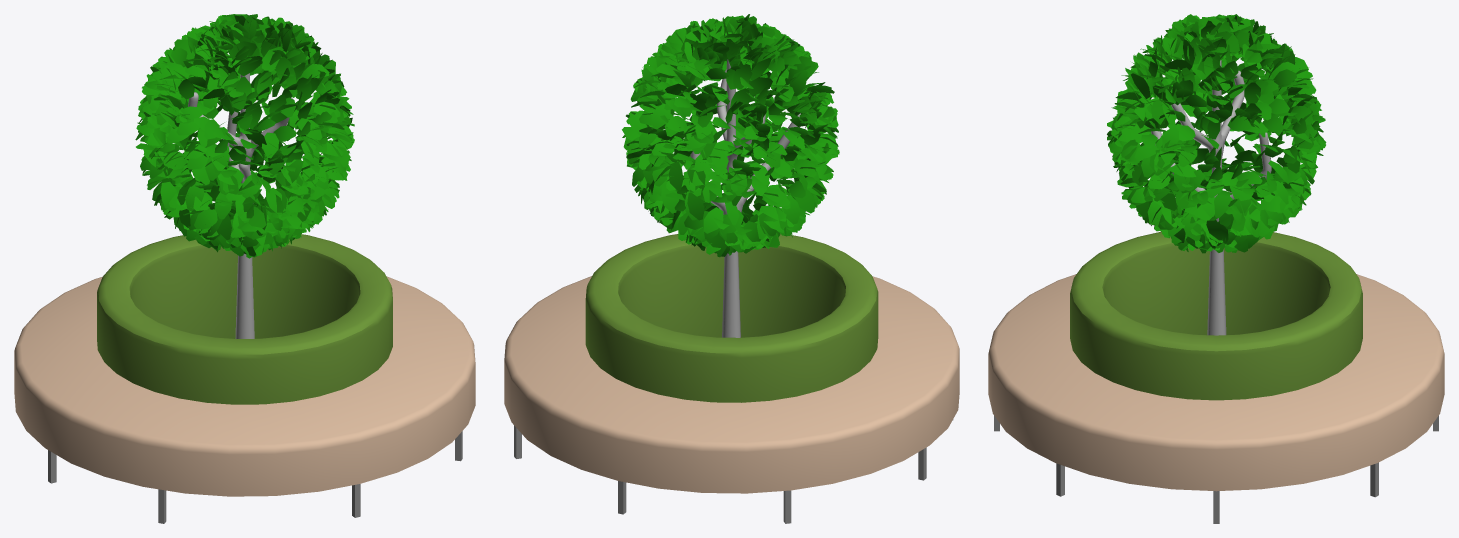
File: treesofa.fbx
3 views of the same model, side by side, from view 1: azimuth 30°, elevation 25°; view 2: azimuth 150°, elevation 25°; view 3: azimuth 270°, elevation 25° (orthographic).
Visible parts, largest first — view 1: Cylinder, Vert; view 2: Cylinder, Vert; view 3: Cylinder, Vert.
Boxes of the visible parts, <box> form: Cylinder: <box>14,234,475,523</box>; Vert: <box>188,73,293,338</box>; Cylinder: <box>504,233,959,523</box>; Vert: <box>690,59,800,337</box>; Cylinder: <box>988,231,1444,523</box>; Vert: <box>1150,60,1271,335</box>.
Bounding box in the file's own units: 1080 × 1073 × 1080.
3 materials, 3 textured.
